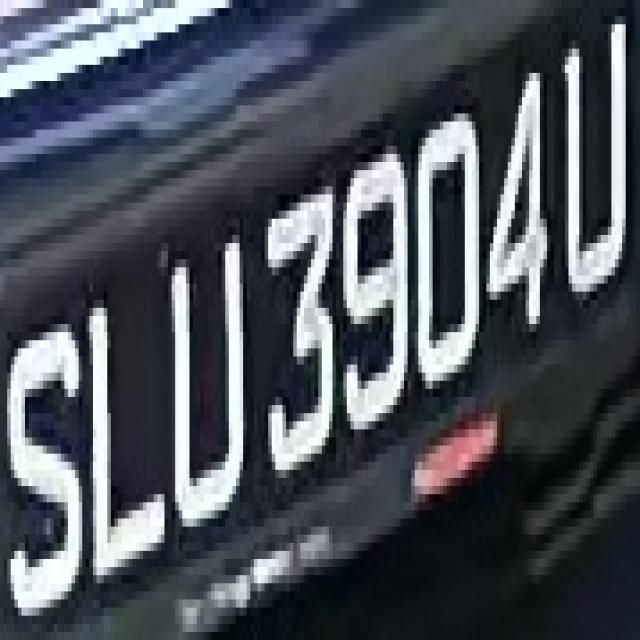0: (408, 97, 490, 421)
3: (268, 186, 343, 486)
4: (472, 65, 554, 364)
9: (340, 138, 414, 470)
L: (86, 316, 168, 575)
S: (0, 284, 86, 600)
U: (164, 251, 254, 543), (558, 16, 633, 292)
